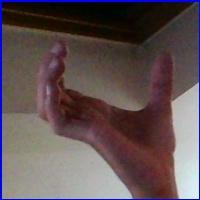space: (37, 31, 188, 159)
